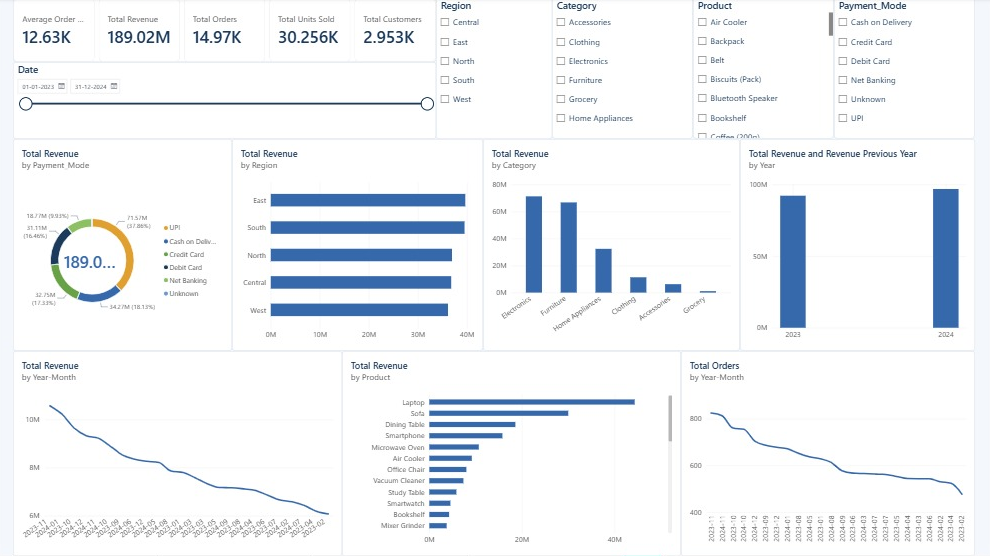

The dashboard page shown, as its layout file describes it:
{"tool":"powerbi","page":{"name":"Executive Overview","canvas":[1920,1080],"ordinal":0},"visuals":[{"type":"slicer","fields":{"Values":["Dim_Date.Date"]},"box":[27.1,123.9,818.7,149],"z":0},{"type":"slicer","fields":{"Values":["Fact_Sales.Region"]},"box":[845.8,0,224.5,272.9],"z":1},{"type":"slicer","fields":{"Values":["dim_product.Category"]},"box":[1070.3,0,272,272],"z":2},{"type":"slicer","fields":{"Values":["dim_product.Product"]},"box":[1343.2,0,272,272],"z":3},{"type":"slicer","fields":{"Values":["Fact_Sales.Payment_Mode"]},"box":[1616.1,0,272,272],"z":4},{"type":"cardVisual","fields":{"Data":["Fact_Sales.Average Order Value","Fact_Sales.Total Revenue","Fact_Sales.Total Orders","Fact_Sales.Total Units Sold","Fact_Sales.Total Customers"]},"box":[27.1,0,819.3,124.1],"z":5},{"type":"lineChart","fields":{"Category":["Dim_Date.Year-Month"],"Y":["Fact_Sales.Total Revenue"]},"box":[27.1,683.2,636.8,396.8],"z":6},{"type":"clusteredColumnChart","fields":{"Category":["dim_product.Category"],"Y":["Fact_Sales.Total Revenue"]},"box":[936.8,272.9,497.4,410.3],"z":7},{"type":"clusteredBarChart","fields":{"Category":["dim_product.Product"],"Y":["Fact_Sales.Total Revenue"]},"box":[663.9,683.2,656.1,396.8],"z":8},{"type":"clusteredBarChart","fields":{"Category":["Fact_Sales.Region"],"Y":["Fact_Sales.Total Revenue"]},"box":[451,272.9,485.8,410.3],"z":9},{"type":"donutChart","fields":{"Category":["Fact_Sales.Payment_Mode"],"Y":["Fact_Sales.Total Revenue"]},"box":[27.1,272.9,423.9,410.3],"z":10},{"type":"lineChart","fields":{"Category":["Dim_Date.Year-Month"],"Y":["Fact_Sales.Total Orders"]},"box":[1320,683.2,569,396.8],"z":11},{"type":"clusteredColumnChart","fields":{"Category":["Dim_Date.Year"],"Y":["Fact_Sales.Total Revenue"]},"box":[1434.2,272.9,454.8,410.3],"z":12}]}

Visuals, with their boxes in screenshot pixels (x1, y1, x2, y2), scaled from the page's 1920x1080 canvas onto the 990x556 screenshot:
slicer - Dim_Date.Date: 14, 64, 436, 140
slicer - Fact_Sales.Region: 436, 0, 552, 140
slicer - dim_product.Category: 552, 0, 692, 140
slicer - dim_product.Product: 693, 0, 833, 140
slicer - Fact_Sales.Payment_Mode: 833, 0, 974, 140
cardVisual - Fact_Sales.Average Order Value x Fact_Sales.Total Revenue: 14, 0, 436, 64
lineChart - Dim_Date.Year-Month x Fact_Sales.Total Revenue: 14, 352, 342, 555
clusteredColumnChart - dim_product.Category x Fact_Sales.Total Revenue: 483, 140, 740, 352
clusteredBarChart - dim_product.Product x Fact_Sales.Total Revenue: 342, 352, 681, 555
clusteredBarChart - Fact_Sales.Region x Fact_Sales.Total Revenue: 233, 140, 483, 352
donutChart - Fact_Sales.Payment_Mode x Fact_Sales.Total Revenue: 14, 140, 233, 352
lineChart - Dim_Date.Year-Month x Fact_Sales.Total Orders: 681, 352, 974, 555
clusteredColumnChart - Dim_Date.Year x Fact_Sales.Total Revenue: 740, 140, 974, 352
